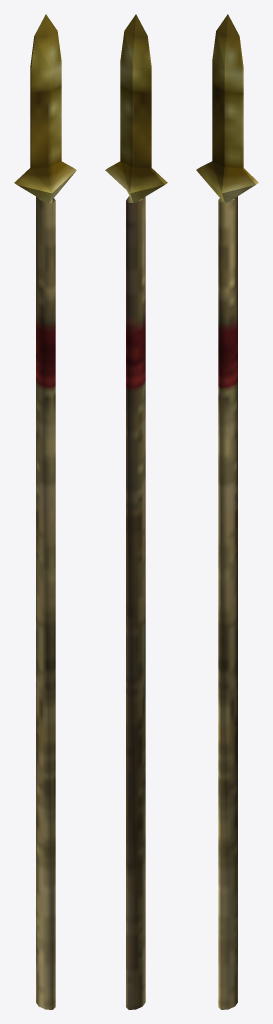
The model's file is yayoi_spear_1.dae.
The picture shows the model from 3 angles, left to right: view 1: azimuth 30°, elevation 25°; view 2: azimuth 150°, elevation 25°; view 3: azimuth 330°, elevation 25°; orthographic projection.
Parts seen in each view (by area): view 1: spear_p_1; view 2: spear_p_1; view 3: spear_p_1.
Boxes of the visible parts, left/top/right/bottom form: spear_p_1: left=14, top=14, right=76, bottom=1009; spear_p_1: left=105, top=14, right=167, bottom=1009; spear_p_1: left=196, top=14, right=258, bottom=1009.
Bounding box in the file's own units: 0.3107 × 0.1255 × 4.9.
1 material, 1 textured.
